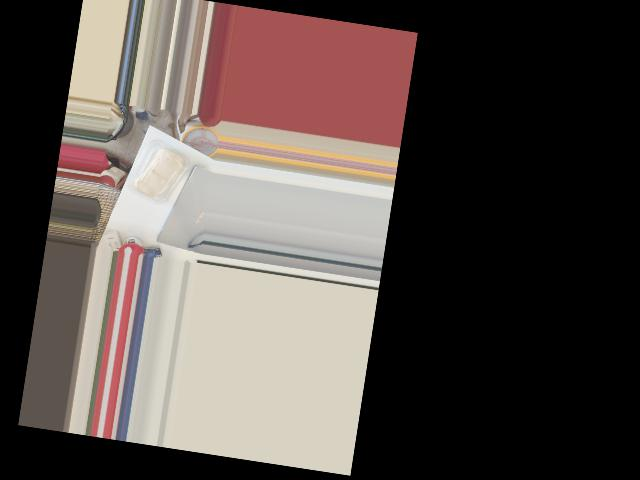cheese: (125, 131, 194, 210)
